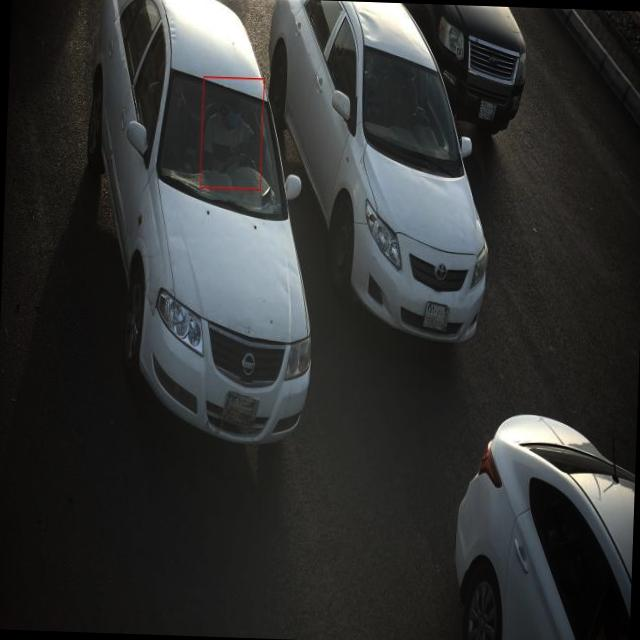person_without_seatbelt: (202, 80, 260, 187)
